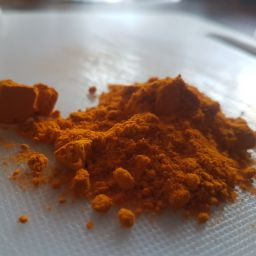Turmeric dried: (1, 72, 256, 243), (92, 84, 256, 227), (1, 77, 116, 185)
